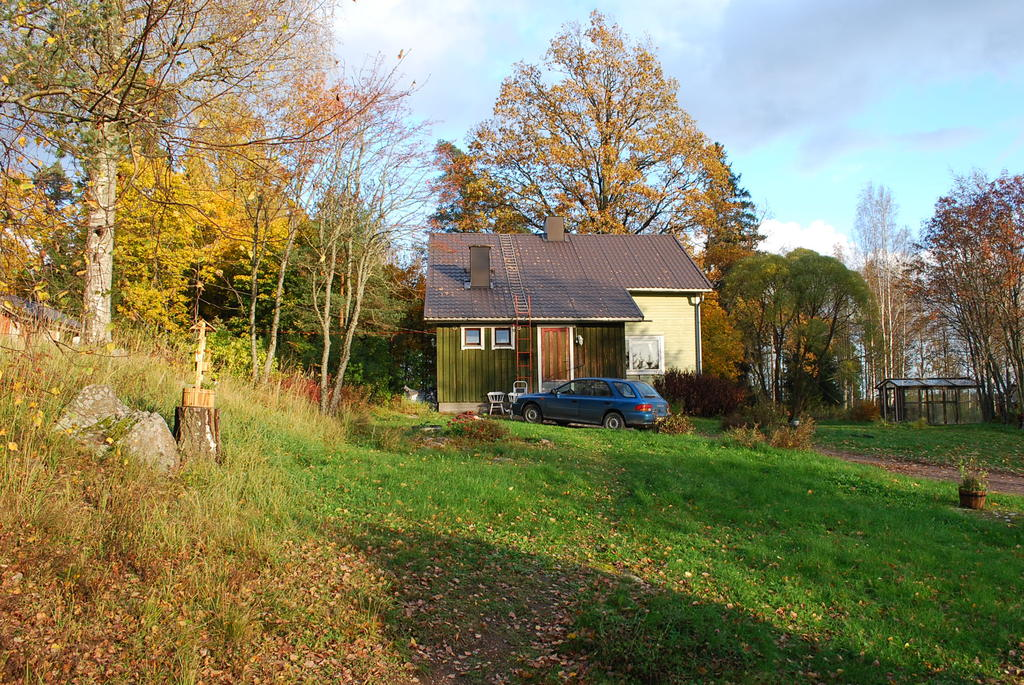Tree: (0, 0, 424, 429), (696, 158, 1023, 425), (424, 35, 772, 258)
